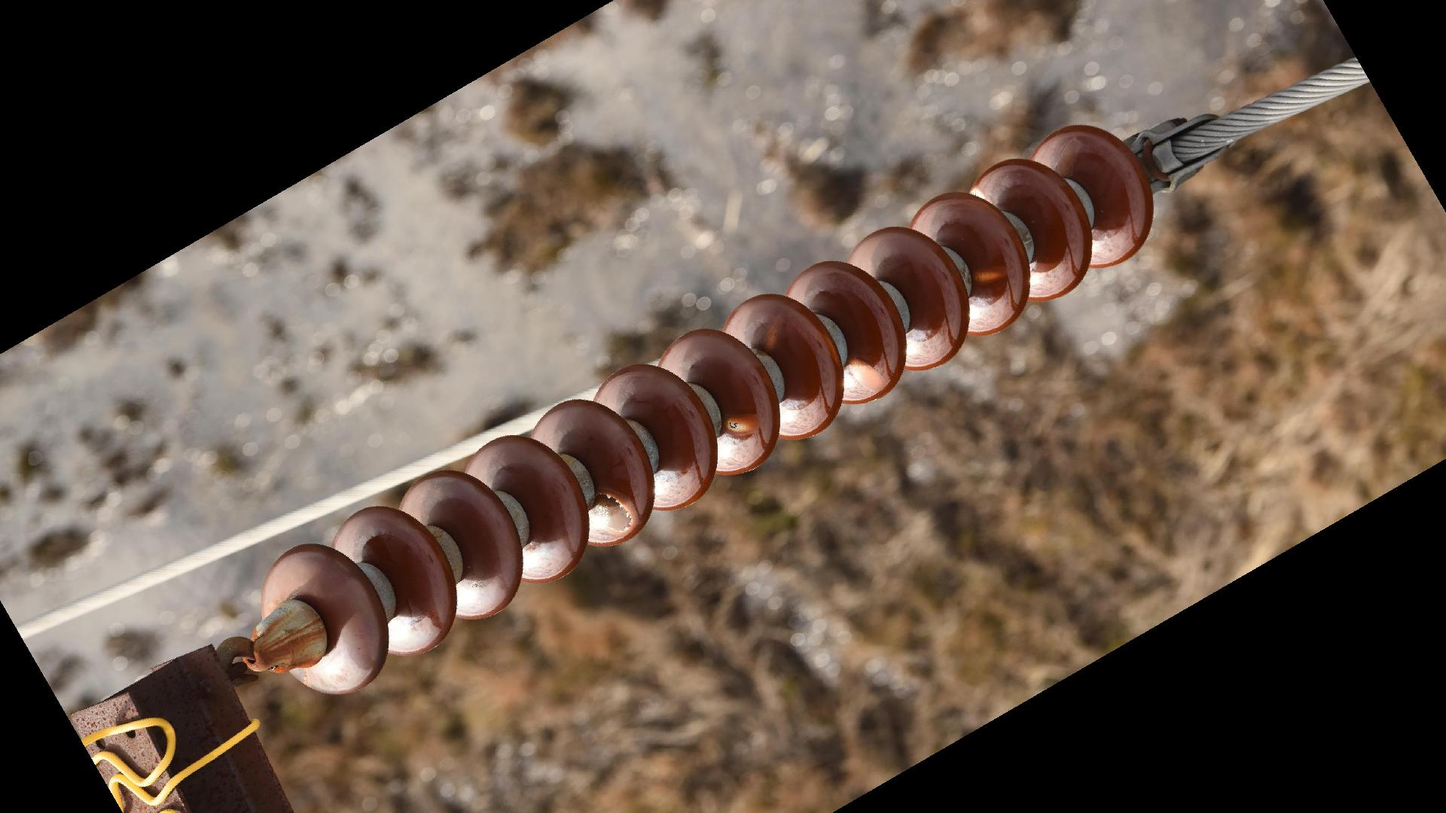insulator: (250, 120, 1158, 703)
insulator_flashover: (588, 491, 635, 537), (848, 358, 888, 395), (722, 411, 761, 436), (970, 266, 1010, 287)
